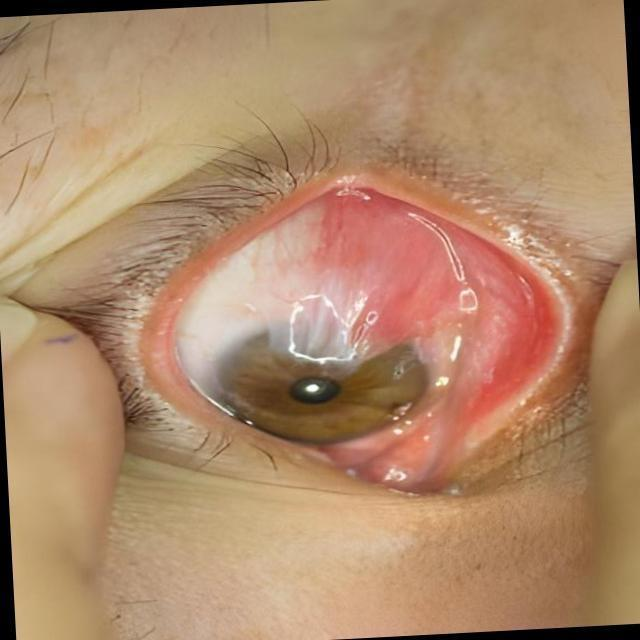Pterygium: (255, 162, 478, 384)
